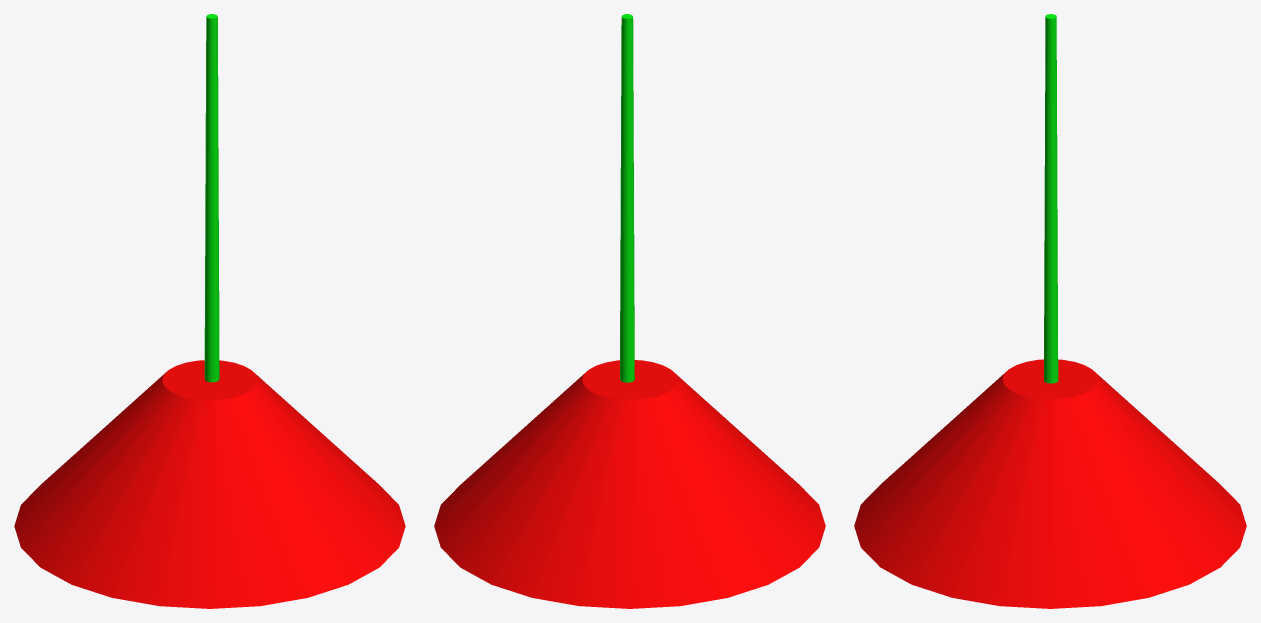
File: Lamp_1.fbx
The picture shows the model from 3 angles, left to right: view 1: azimuth 30°, elevation 25°; view 2: azimuth 150°, elevation 25°; view 3: azimuth 270°, elevation 25°; orthographic projection.
Parts seen in each view (by area): view 1: Lamp_1; view 2: Lamp_1; view 3: Lamp_1.
Part boxes in pixels (x1,y1,x2,y2): Lamp_1: [14, 14, 405, 608]; Lamp_1: [434, 14, 825, 608]; Lamp_1: [854, 14, 1246, 608].
Bounding box in the file's own units: 47.54 × 68.22 × 47.54.
